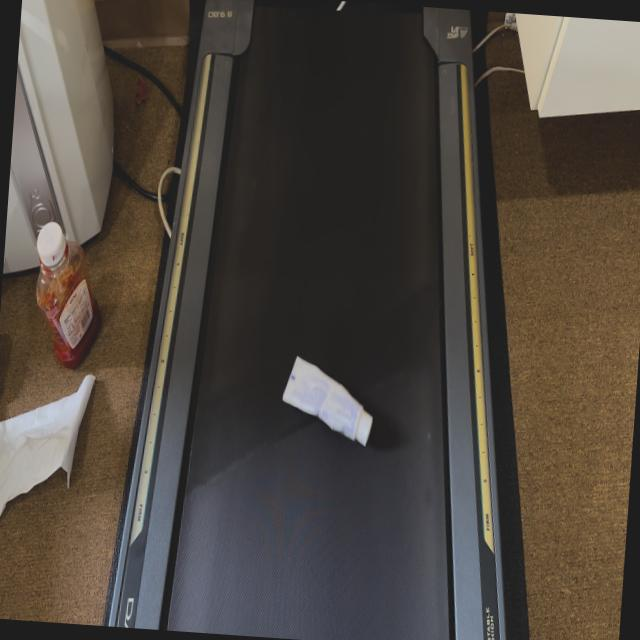Trash: (276, 353, 378, 450)
